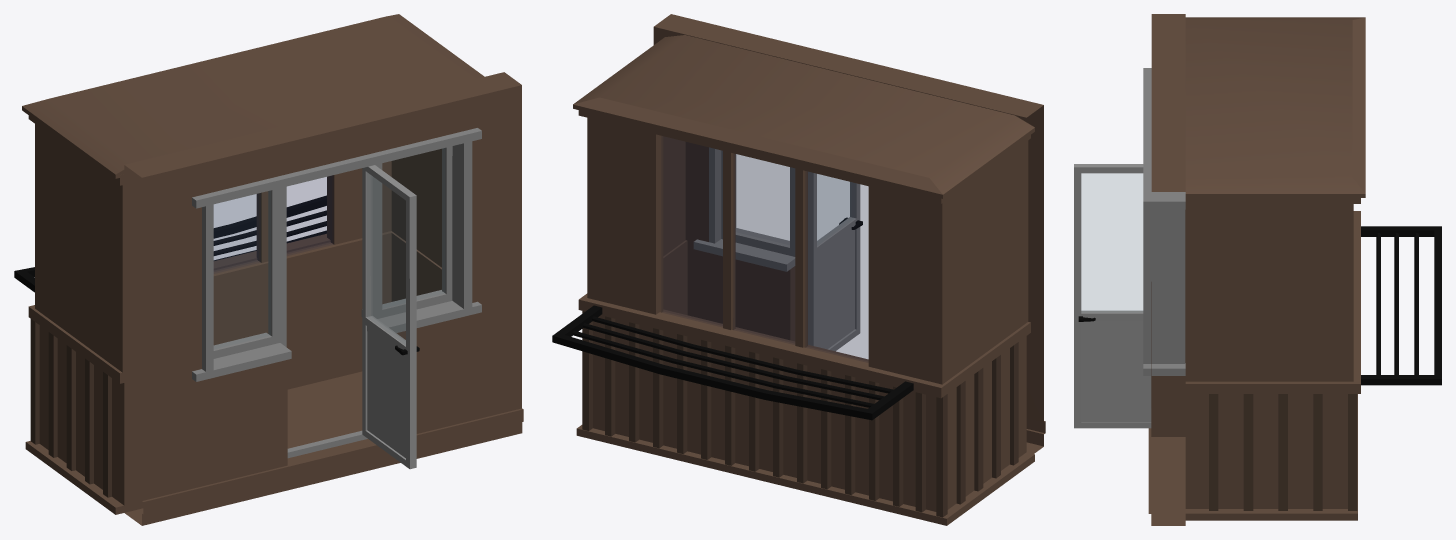
3 renders of one model, left to right at view 1: azimuth 30°, elevation 25°; view 2: azimuth 150°, elevation 25°; view 3: azimuth 270°, elevation 25°, orthographic. The views are drawn at different scales.
Parts seen in each view (by area): view 1: Hub_3_balcony_030, Balcony_door_016; view 2: Hub_3_balcony_030, Balcony_door_016; view 3: Hub_3_balcony_030, Balcony_door_016.
Part boxes in pixels (x1,y1,x2,y2): Hub_3_balcony_030: (14, 14, 523, 525); Balcony_door_016: (362, 165, 419, 469); Hub_3_balcony_030: (552, 14, 1045, 525); Balcony_door_016: (808, 171, 862, 351); Hub_3_balcony_030: (1143, 14, 1441, 525); Balcony_door_016: (1074, 164, 1151, 428).
Size of the model in its own units: 327 by 280 by 279.
